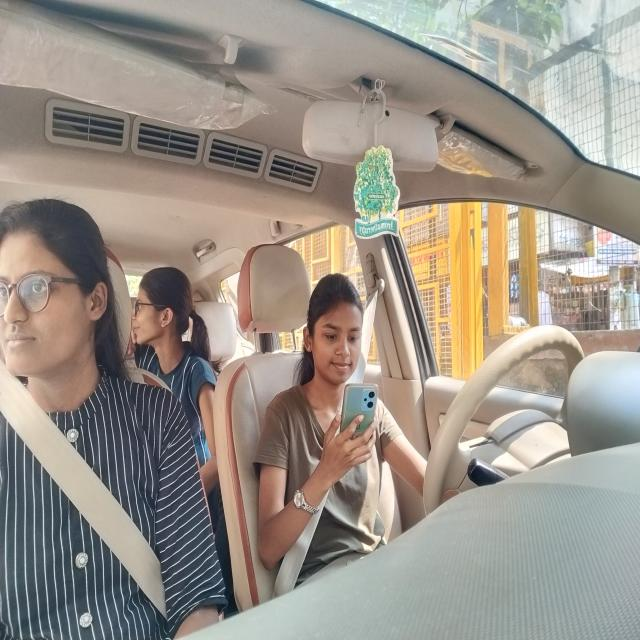mobile: (344, 384, 382, 464)
person: (1, 196, 110, 402), (300, 272, 370, 380), (130, 263, 192, 358)
